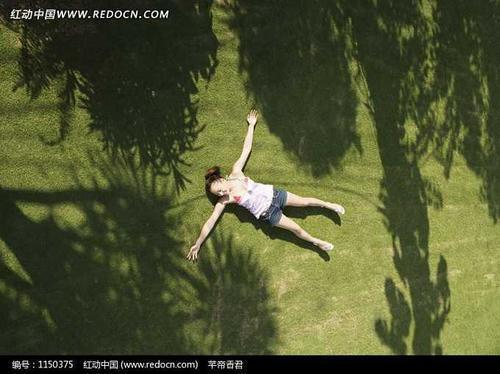Fall-Detected: (182, 100, 349, 266)
